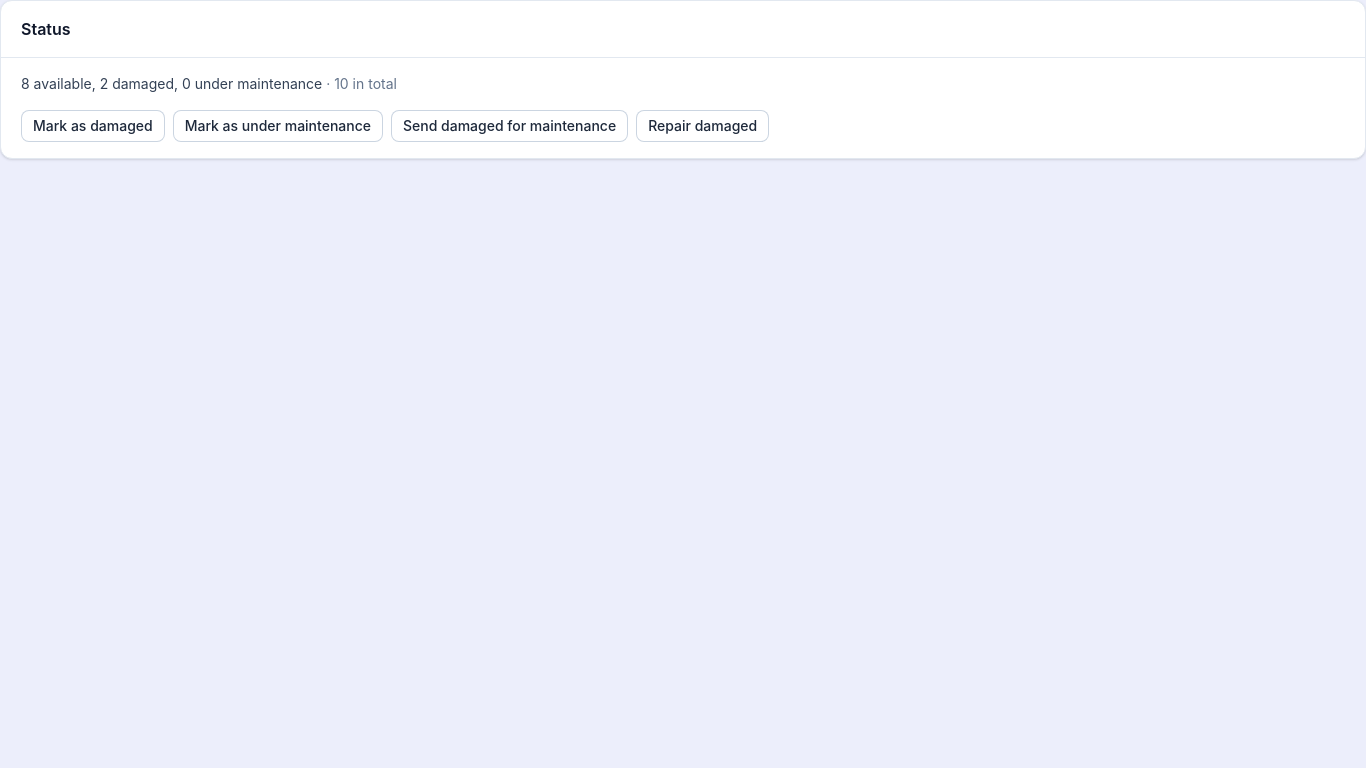
Test: US-45 equipment status panel (by quantity) › US-45 AC-1: shows the server refusing more units than are working
Click the radio button labelled "Mark as damaged": {"x": 93, "y": 126} [21,110,165,142]
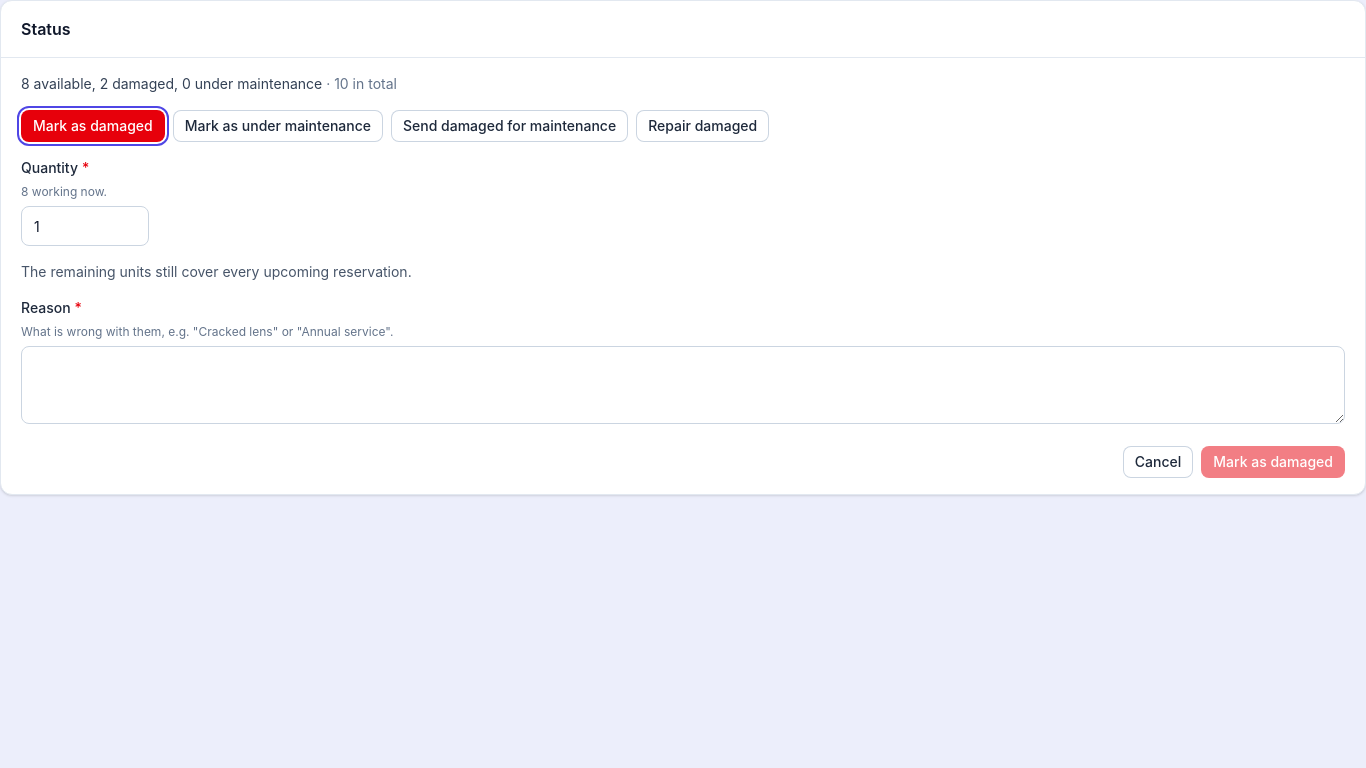
Replace the text in the number field labelled "Quantity*" with "9": {"x": 85, "y": 226} [21,206,149,246]
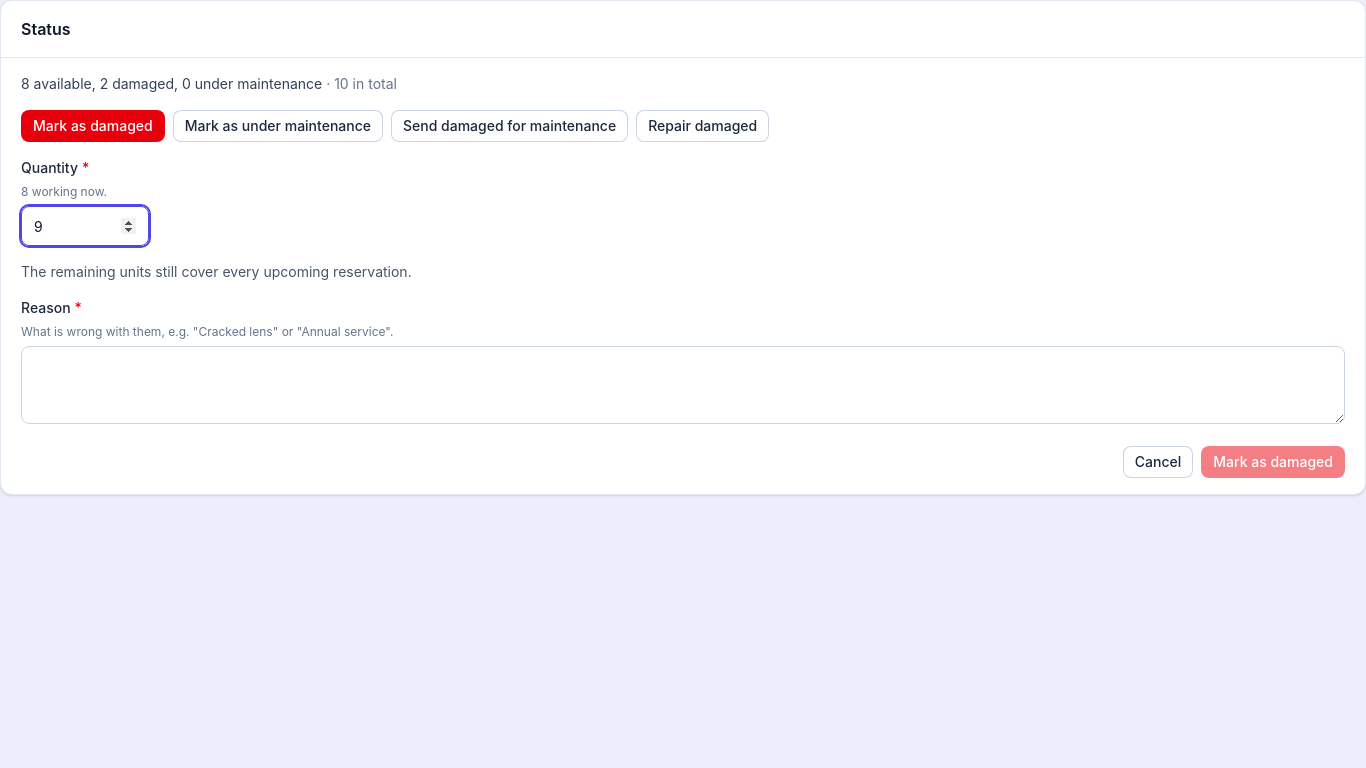
In the text box labelled "Reason*": {"x": 683, "y": 385} [21,346,1345,424], type "Dropped"
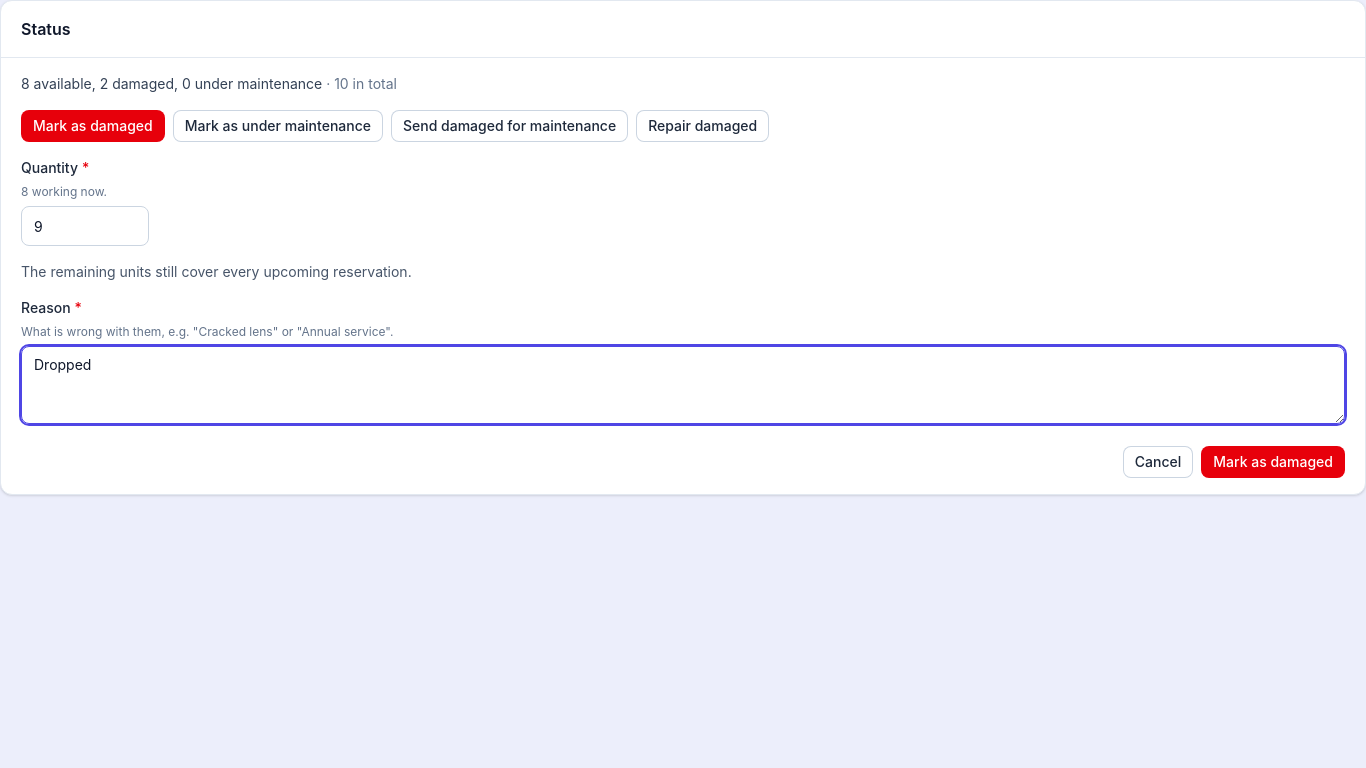
Click the button "Mark as damaged": {"x": 1273, "y": 462} [1201,446,1345,478]
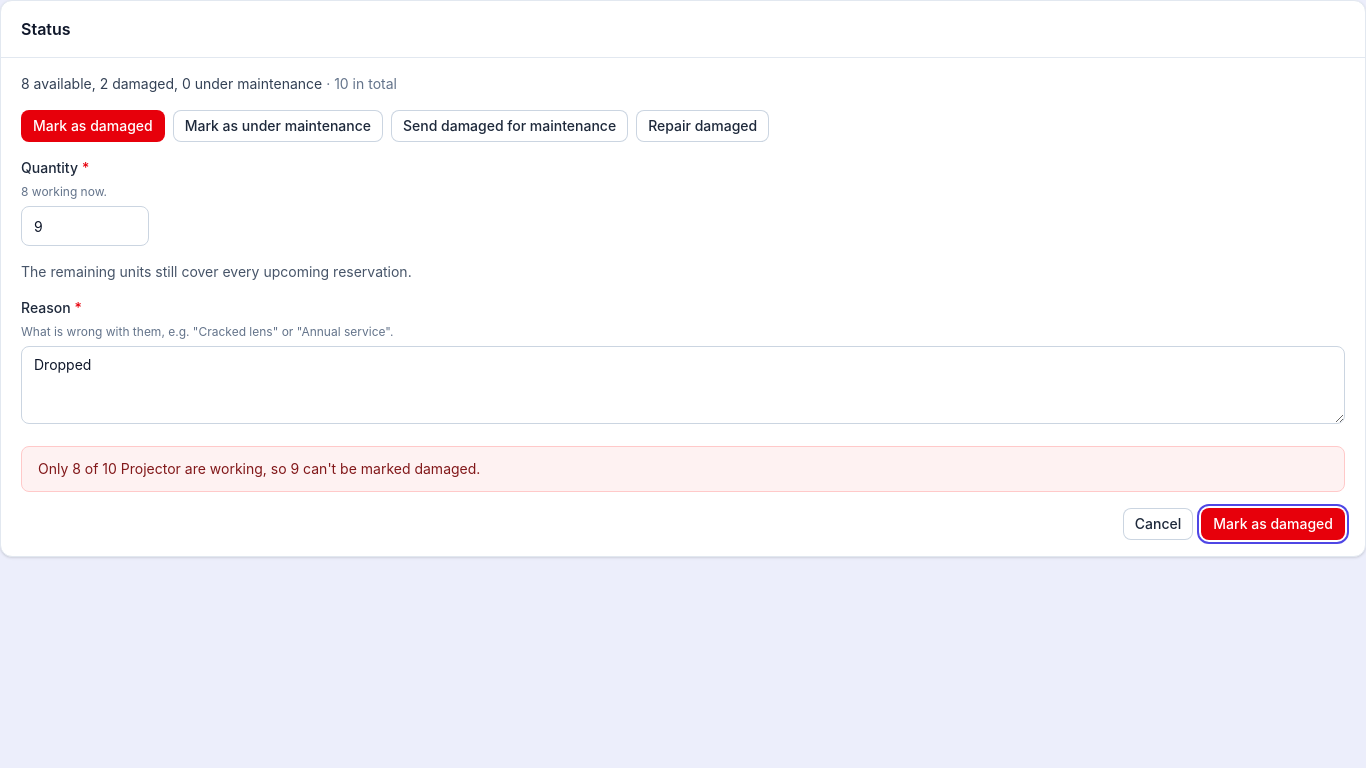
expect the text "Only 8 of 10 Projector are working, so 9 can't be marked damaged." is shown: met, box [21,446,1345,492]
